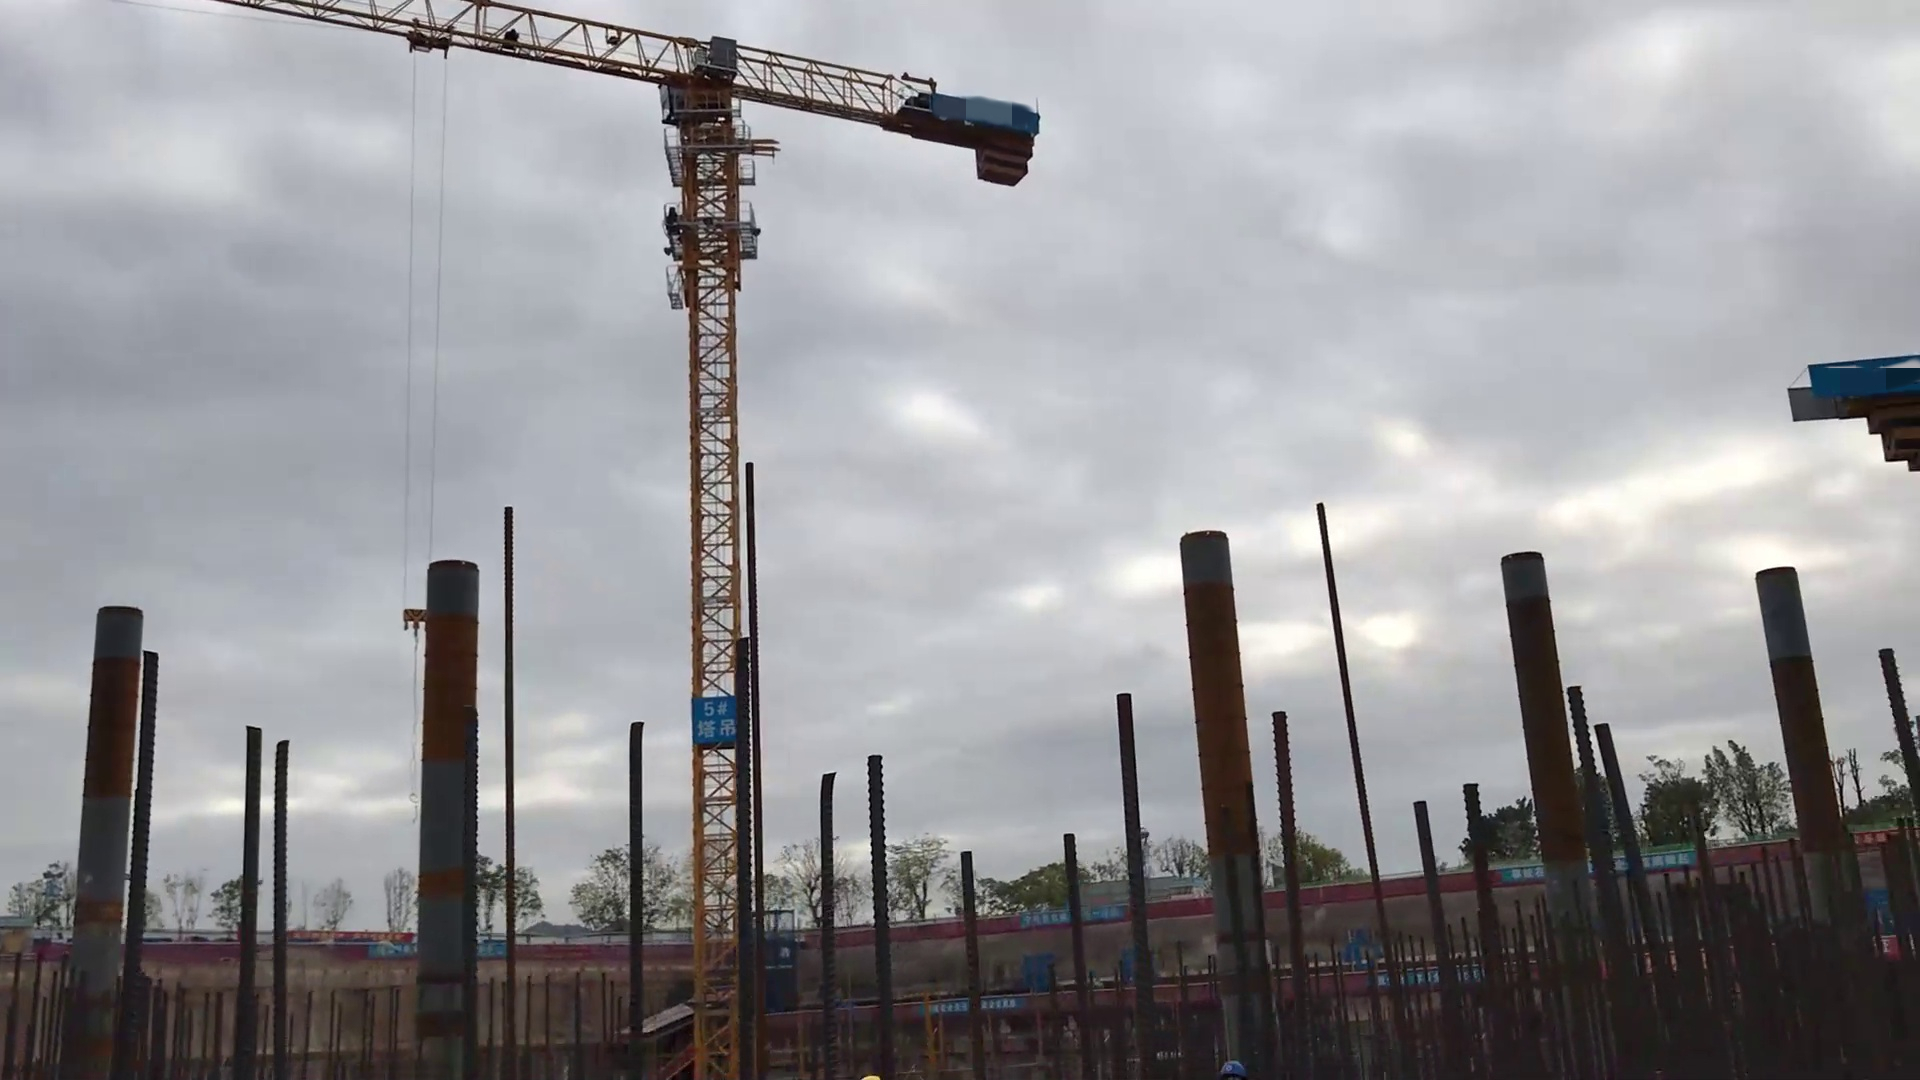hook: (393, 601, 442, 636)
